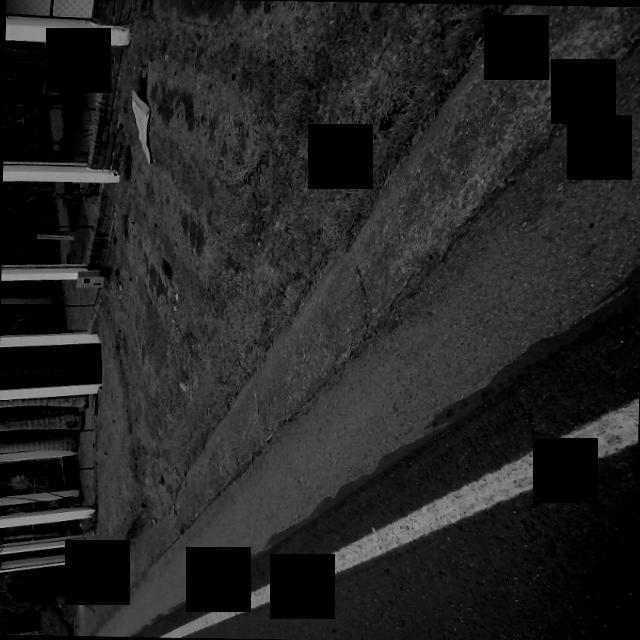DITCH: (75, 0, 640, 640), (143, 0, 640, 640)
